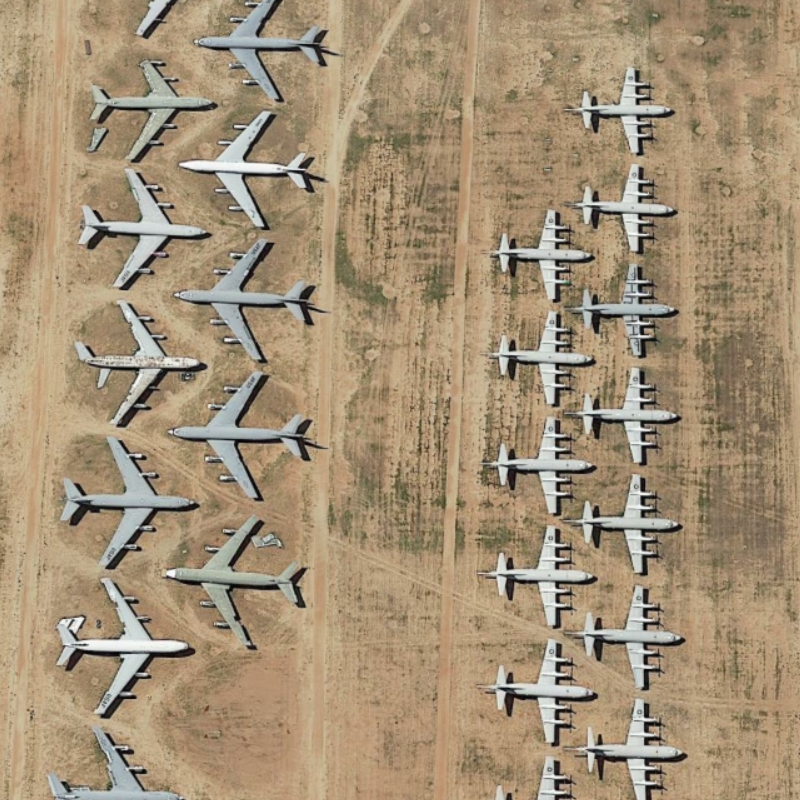A14: (166, 363, 326, 501), (159, 510, 313, 653), (170, 237, 326, 369), (53, 579, 202, 717), (56, 432, 201, 572), (180, 104, 329, 231), (76, 163, 217, 293), (187, 3, 334, 105)
A9: (472, 630, 600, 749), (564, 578, 695, 691), (470, 522, 604, 627), (567, 472, 693, 578), (560, 361, 681, 468), (560, 694, 689, 793), (478, 411, 597, 517), (565, 52, 680, 157), (567, 260, 685, 359), (489, 202, 595, 303), (487, 308, 598, 403), (573, 161, 681, 251)
